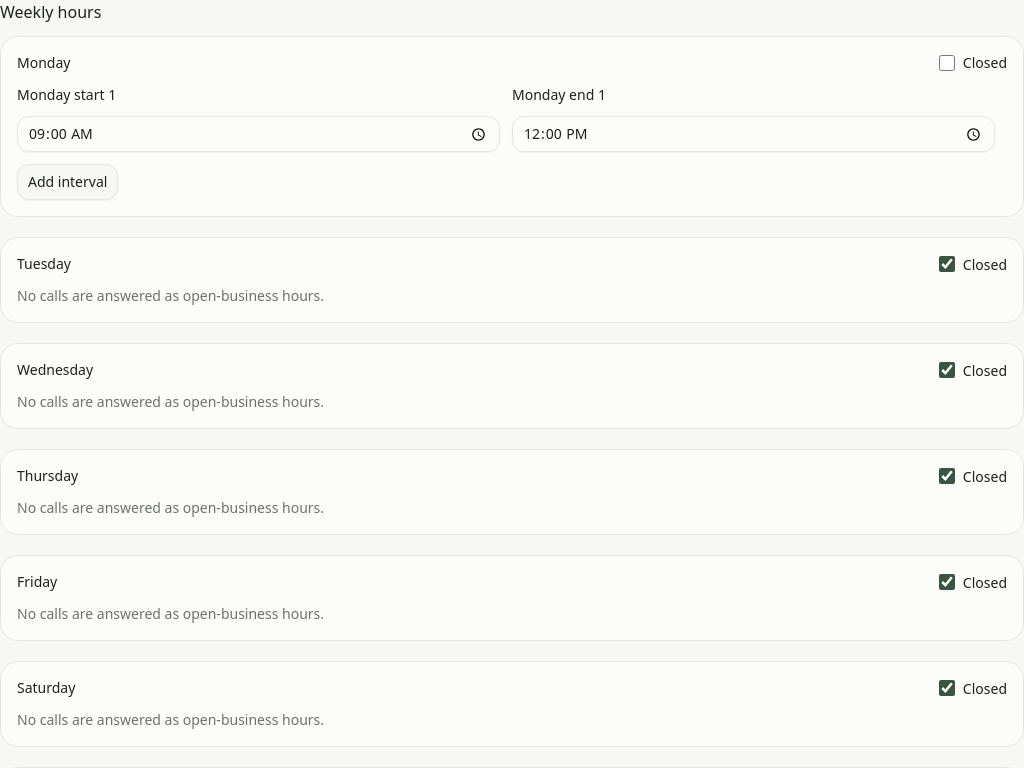
business hours editor › reports overlapping intervals and focuses the conflicting start
Click the button with aria-label "Add interval for Monday": (68, 182) [17, 164, 118, 200]
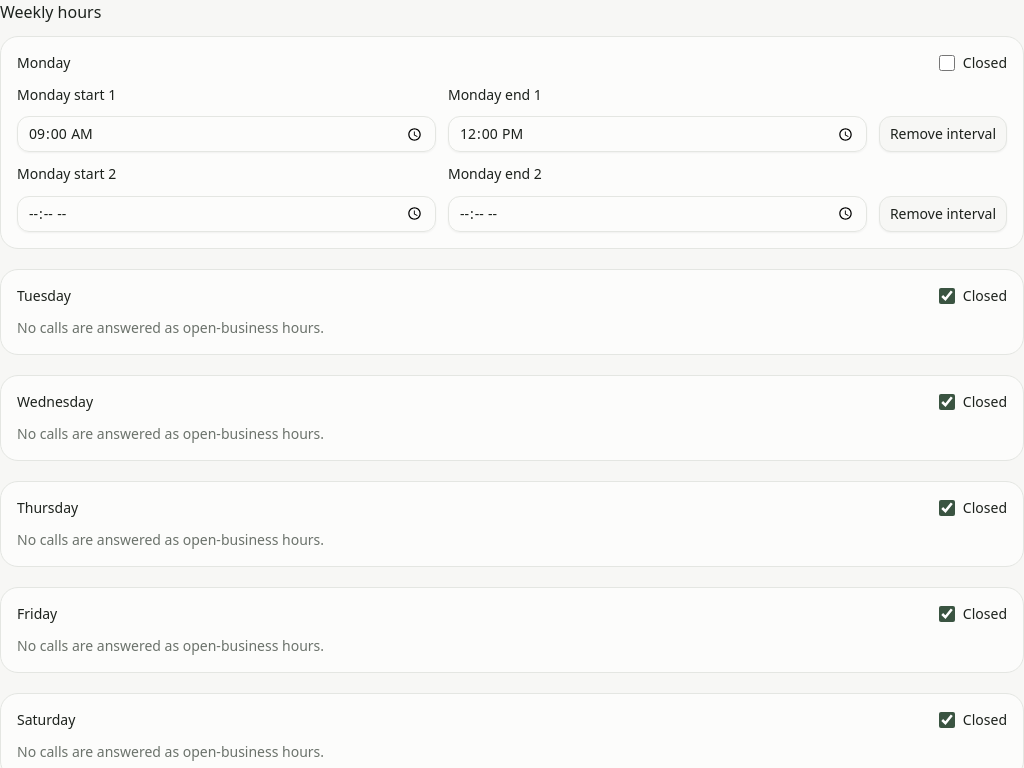
In the time field labelled "Monday start 2": (226, 214) [17, 196, 436, 232], type "11:00"
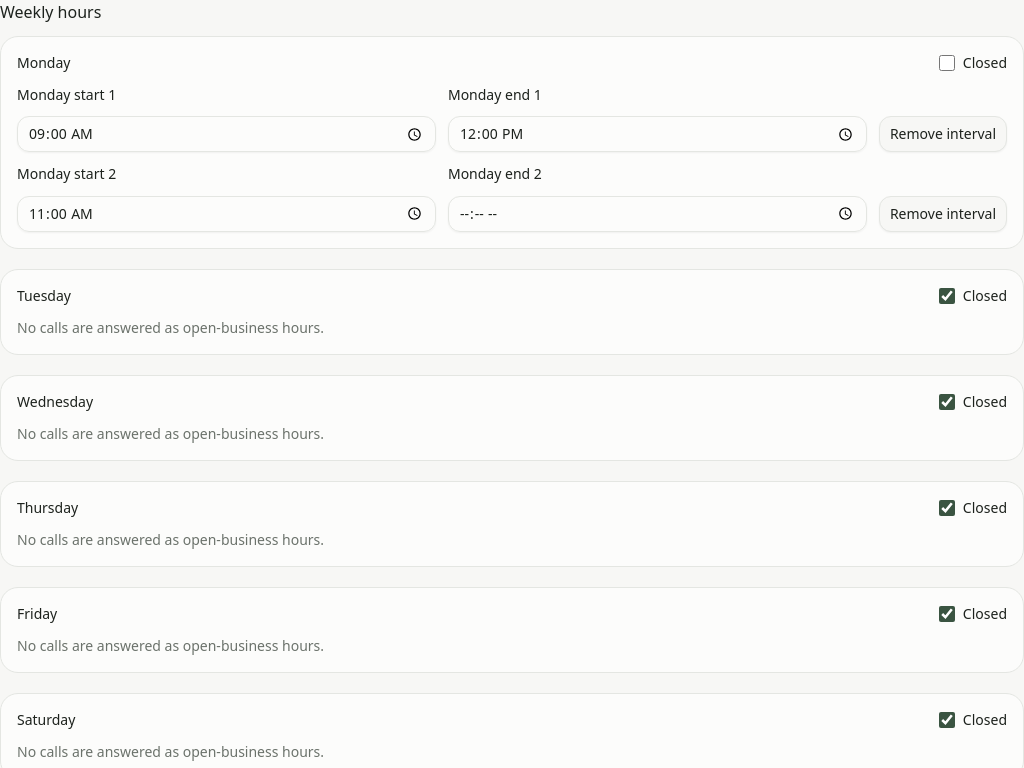
In the time field labelled "Monday end 2": (657, 214) [448, 196, 867, 232], type "13:00"
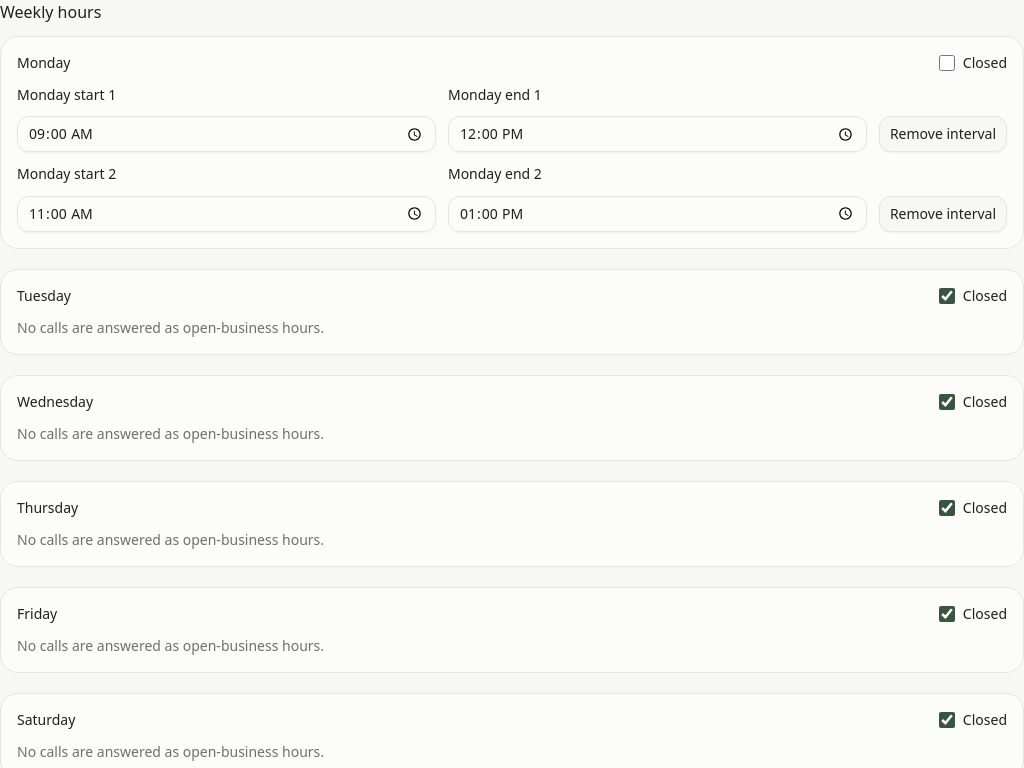
Leave the time field labelled "Monday end 2", box [448, 196, 867, 232]
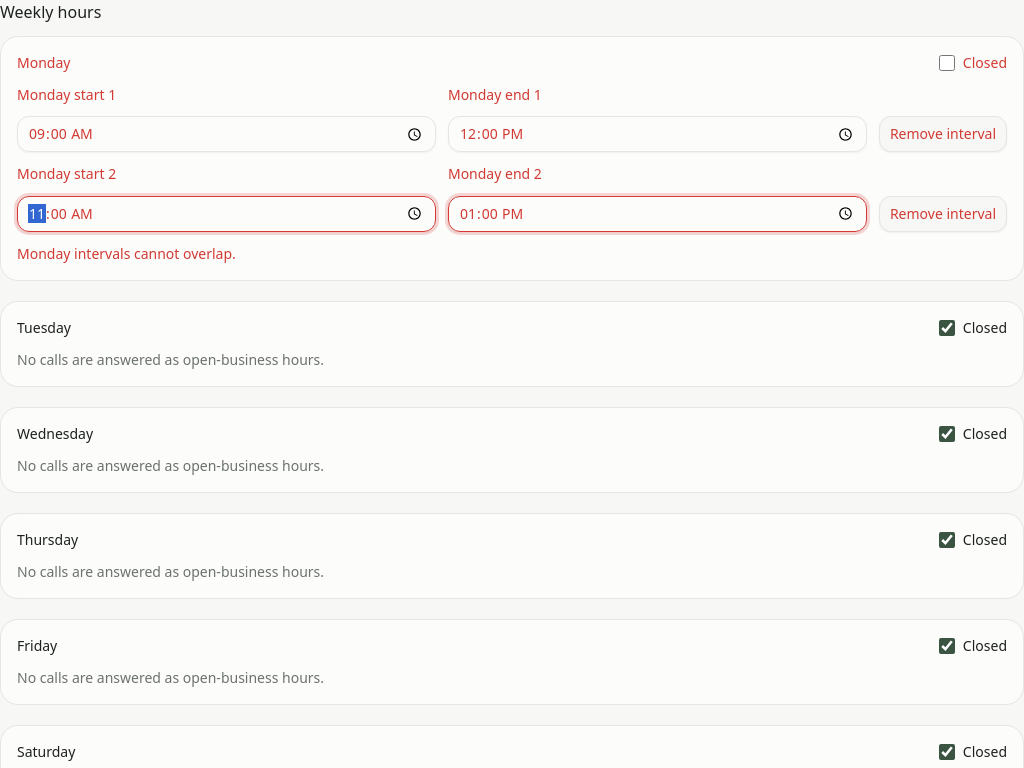
Now the message shows "overlap", box [17, 244, 236, 262]
